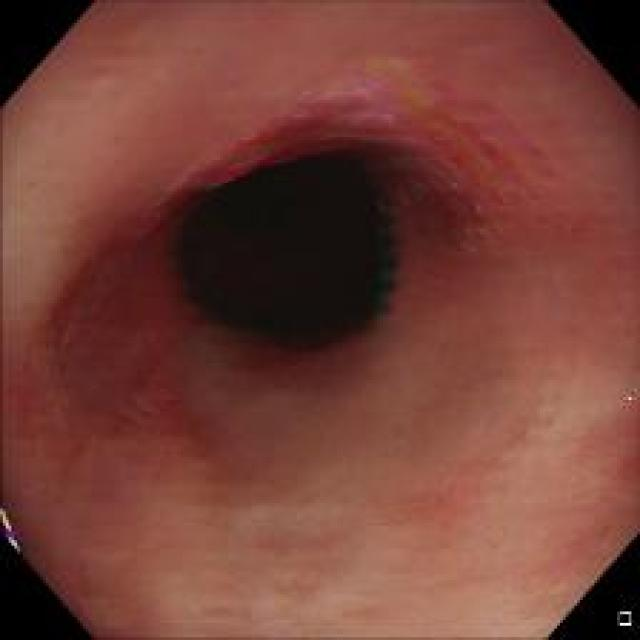color misalignment: (170, 79, 416, 185), (5, 501, 29, 559)
contrast: (161, 130, 415, 360)
